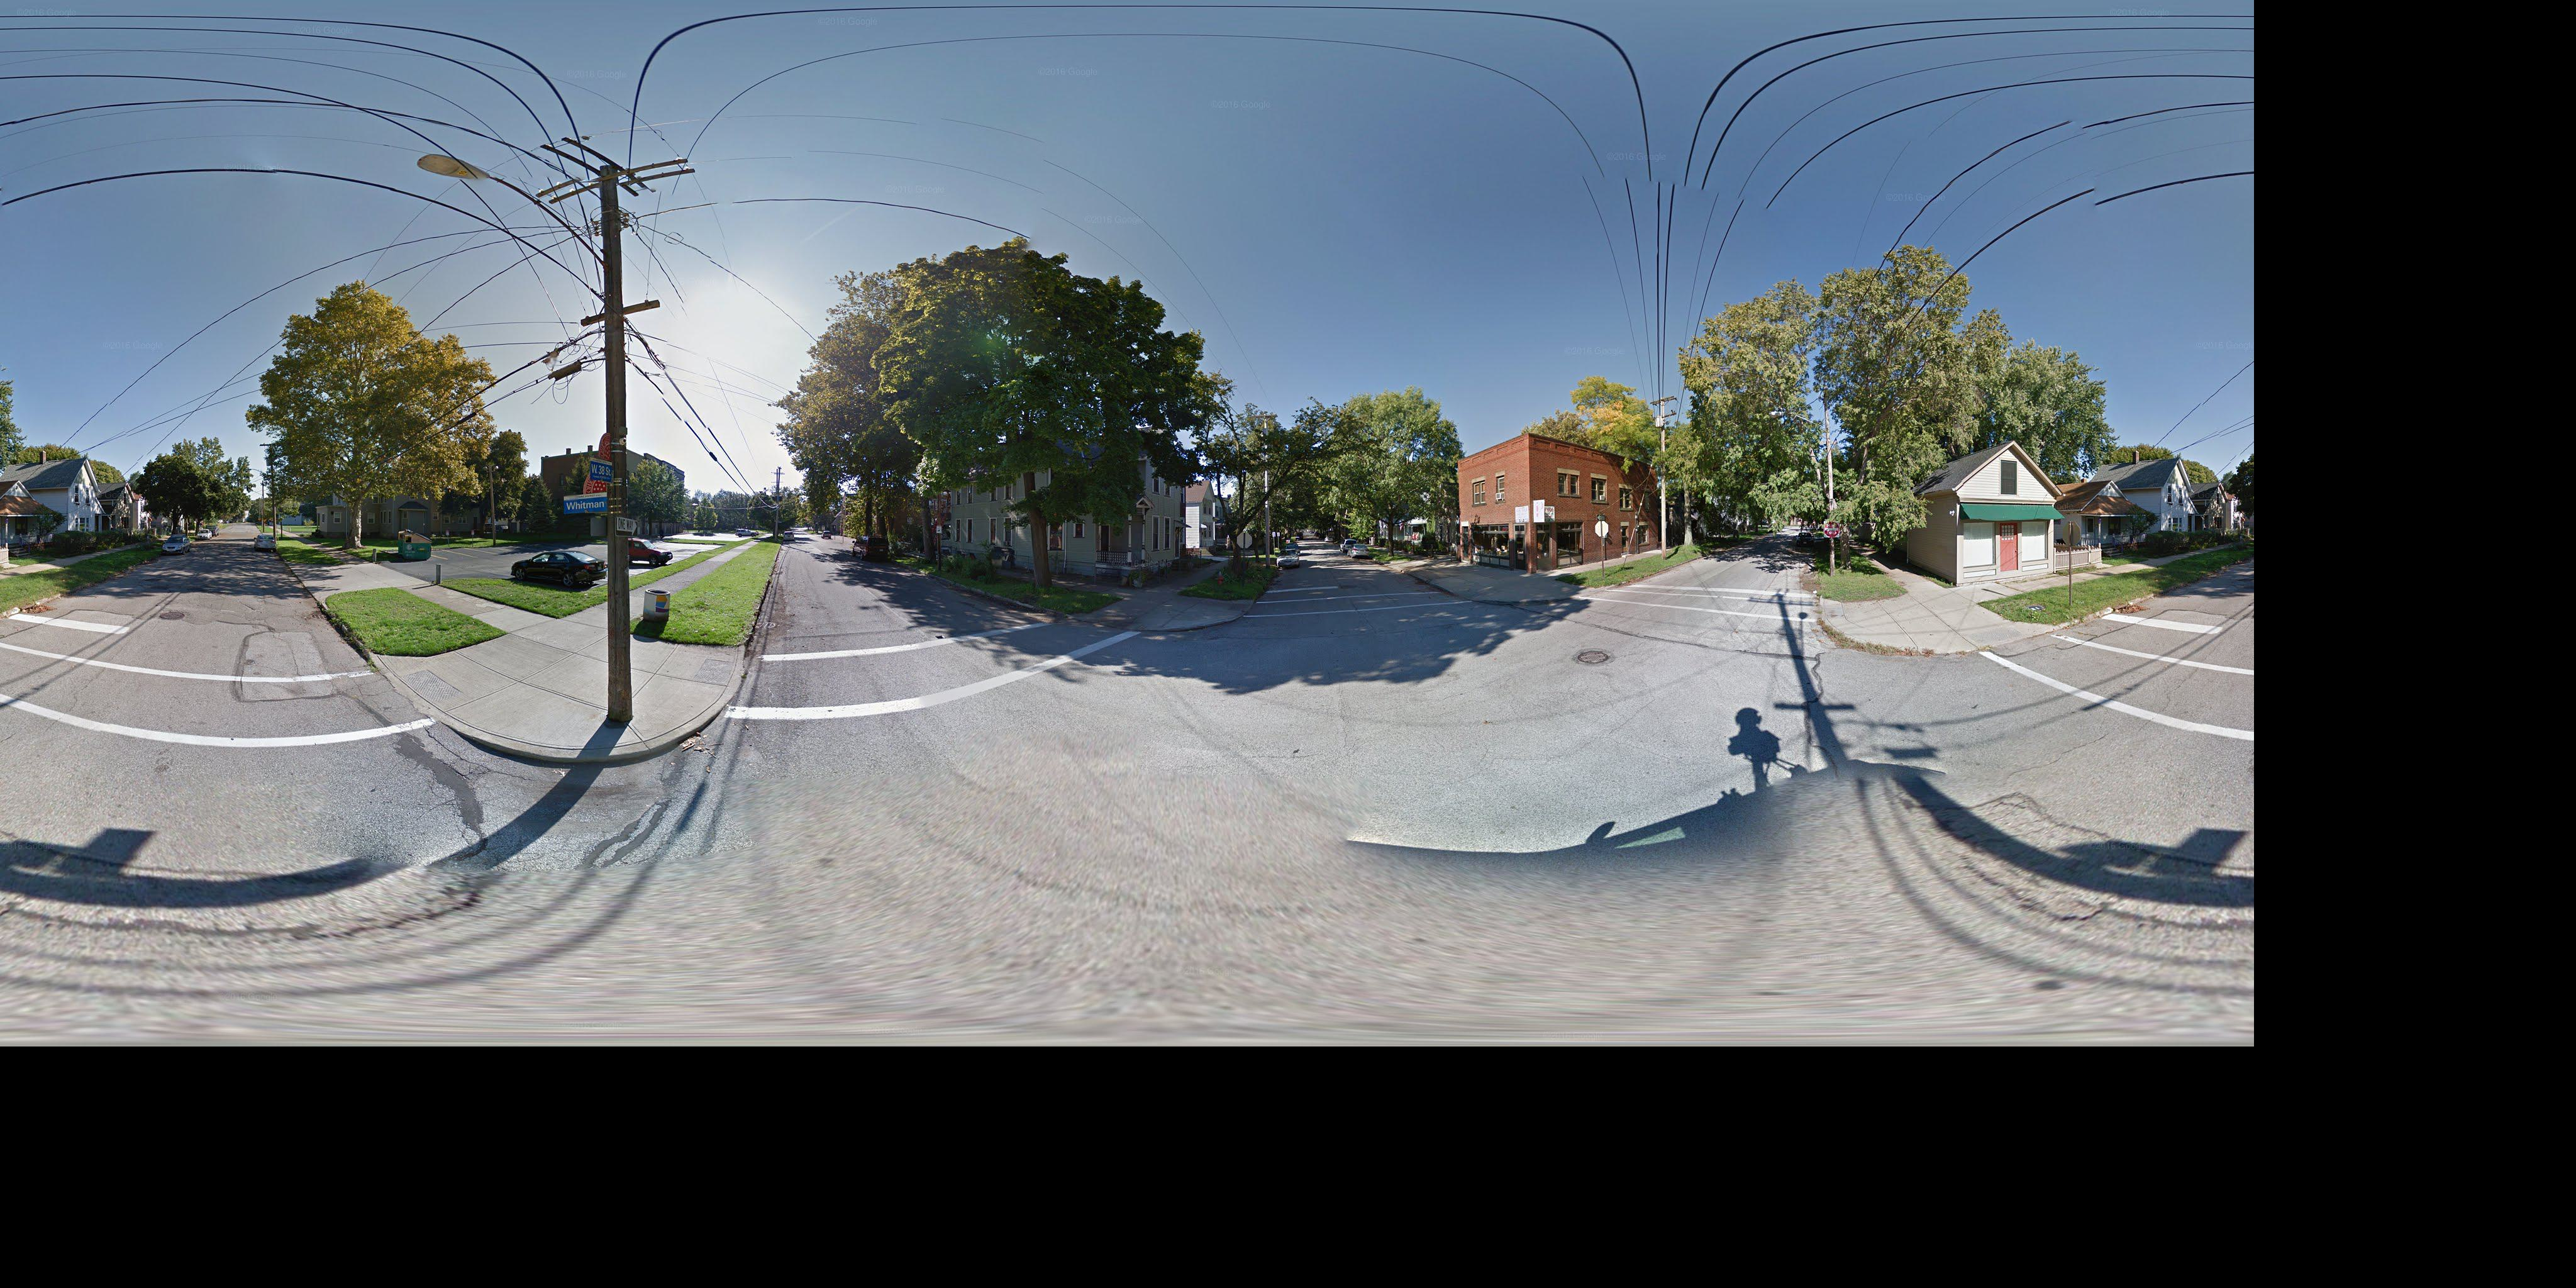Curb Ramp: (360, 649, 470, 728), (692, 637, 779, 718), (1973, 609, 2026, 659), (1076, 606, 1147, 639), (1561, 575, 1610, 605), (1439, 583, 1482, 609), (1216, 595, 1253, 619)
Irregular Ramp: (1809, 590, 1851, 632)
